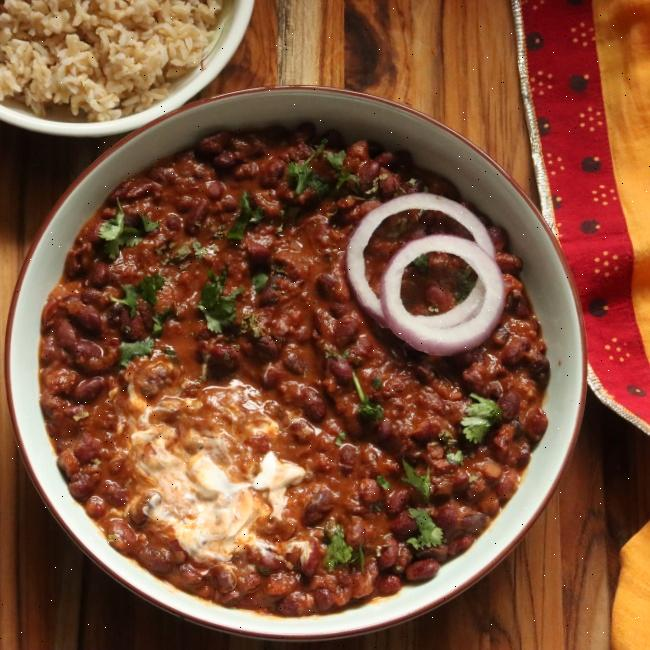rajma: (75, 147, 565, 582)
